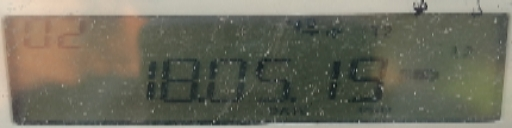0: (206, 53, 248, 106)
1: (325, 55, 344, 104), (143, 47, 159, 103)
5: (345, 53, 388, 106), (253, 52, 294, 104)
8: (159, 52, 198, 104)
d: (195, 94, 208, 105)
